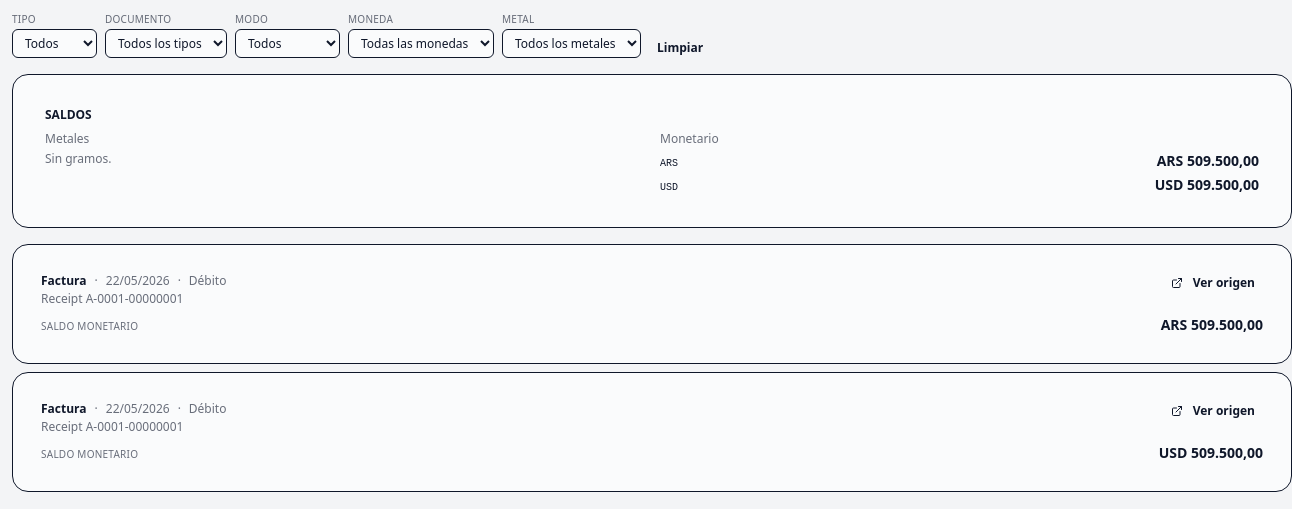
Scenario: EntityBalanceMovementsView — filtros (Fase 4.4) › filtro por currencyCode=USD agrupa correctamente
Select "USD" in the dropdown with test id "filter-currency". click: (421, 44)
box: [348,29,494,58]
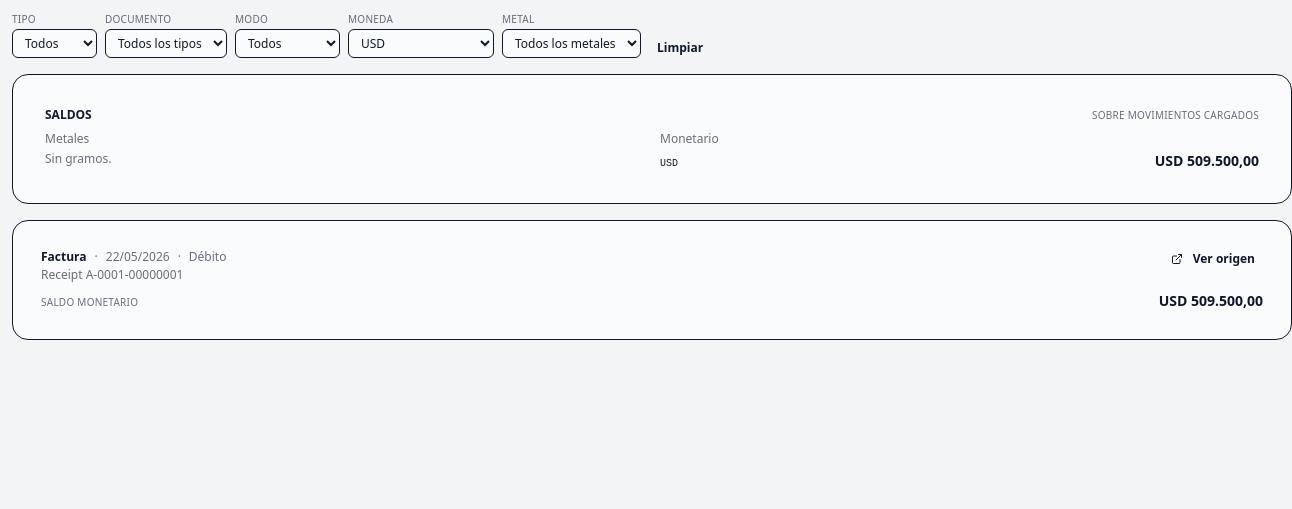
Expected: the element with test id "movement-card-u-usd" is shown, [12,220,1291,340]
Expected: the element with test id "movement-card-u-ars" is gone
